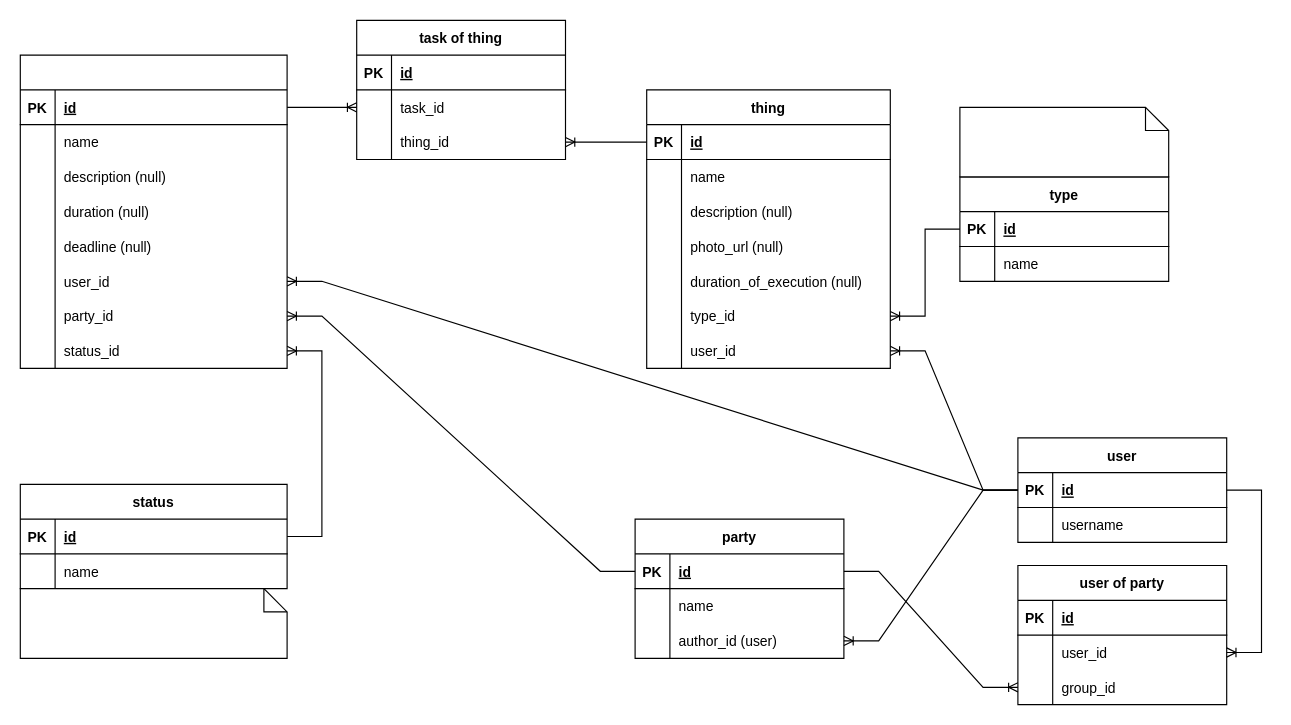
Image size: 1291x725. Some labels were removed from this diagram. The box of each missing label's shape, as (x1, y1, x2, y2) in pixels:
- failed - in progress - done: (19, 588, 287, 658)
- success award - failure award - inventory item: (959, 106, 1169, 177)
task: (19, 54, 287, 368)
